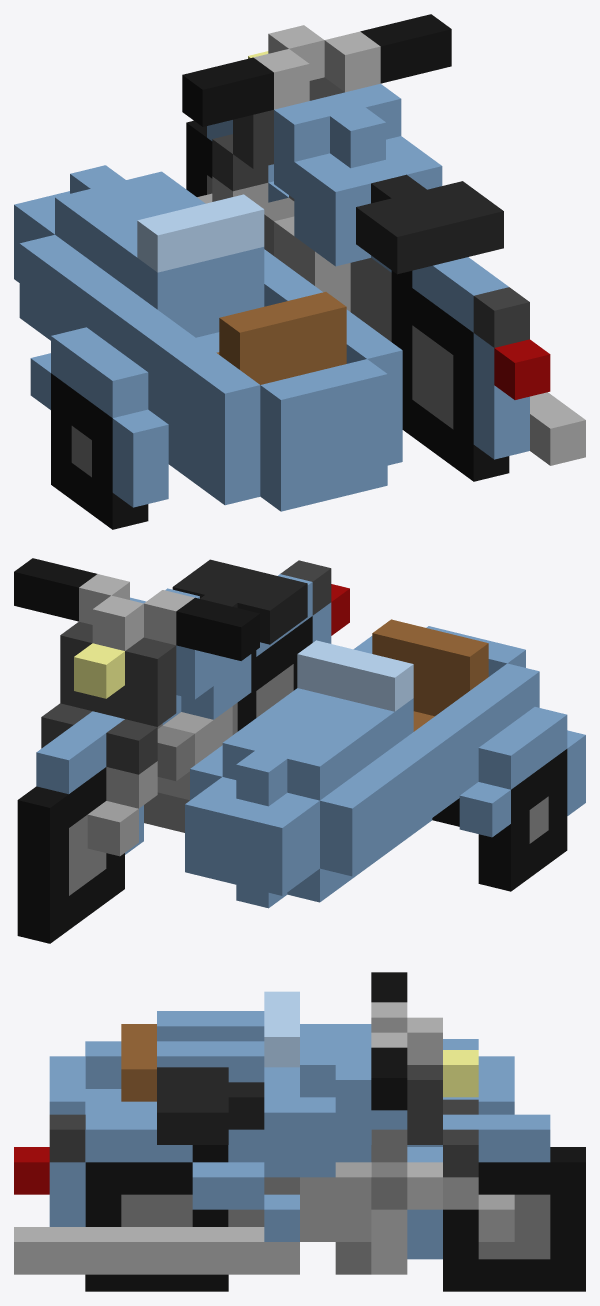
The model's file is Sidecar.vox.obj.
3 renders of one model, top to bottom at view 1: azimuth 30°, elevation 25°; view 2: azimuth 150°, elevation 25°; view 3: azimuth 270°, elevation 25°, orthographic. The views are drawn at different scales.
Size of the model in its own units: 1.3 by 0.8 by 1.6.
Materials: 1 (1 with a texture image).
